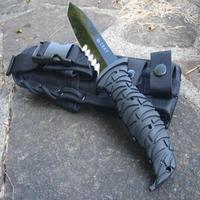knife: (65, 1, 177, 183)
